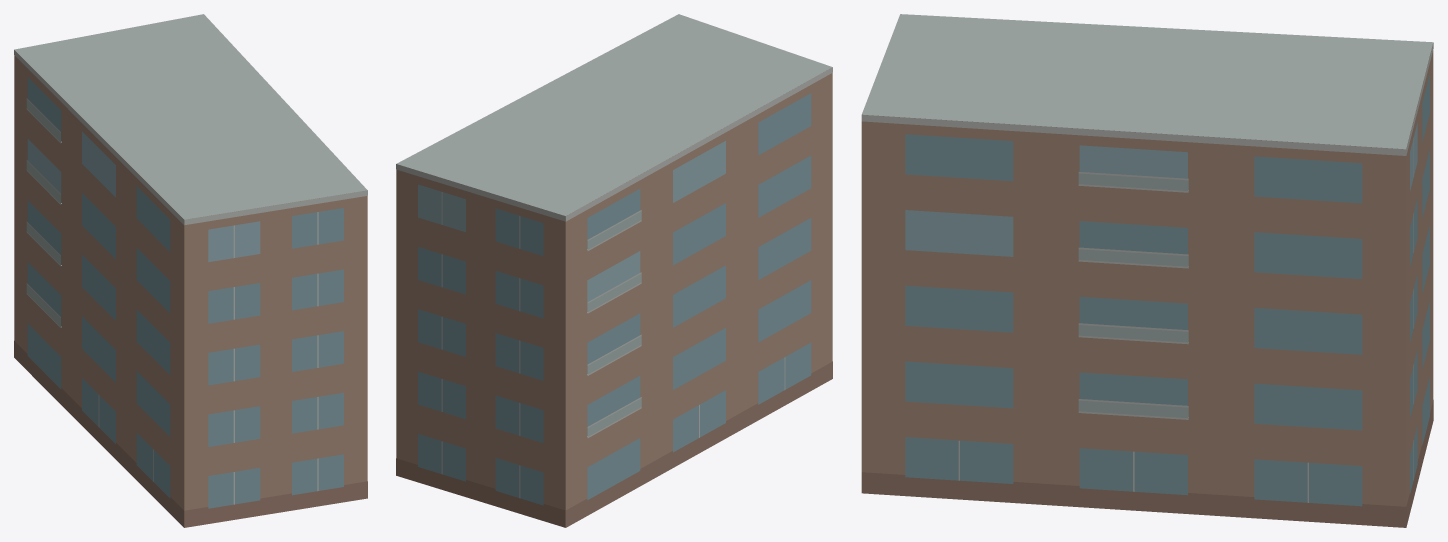
The model's file is survey-upis-32731862.glb.
The picture shows the model from 3 angles, left to right: view 1: azimuth 30°, elevation 25°; view 2: azimuth 150°, elevation 25°; view 3: azimuth 270°, elevation 25°; orthographic projection. The views are drawn at different scales.
Visible parts, largest first — view 1: survey-upis-32731862.tmp; view 2: survey-upis-32731862.tmp; view 3: survey-upis-32731862.tmp.
Part boxes in pixels (x1,y1,x2,y2): survey-upis-32731862.tmp: (14,14,367,527); survey-upis-32731862.tmp: (396,14,832,527); survey-upis-32731862.tmp: (861,14,1433,527).
Size of the model in its own units: 10.51 by 13.7 by 18.76.
